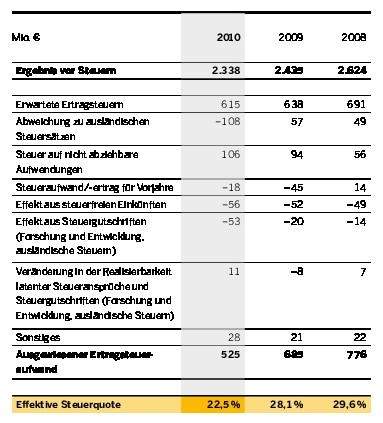table: (0, 0, 383, 423)
